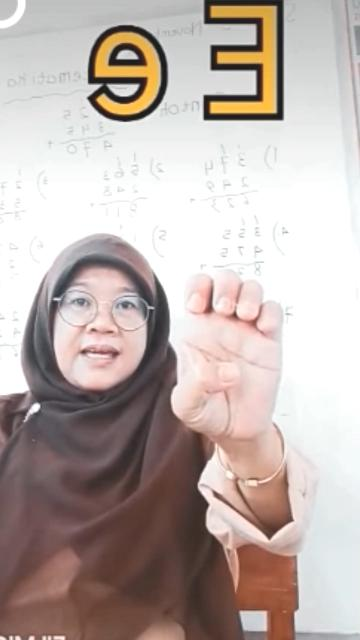E: (166, 264, 292, 436)
